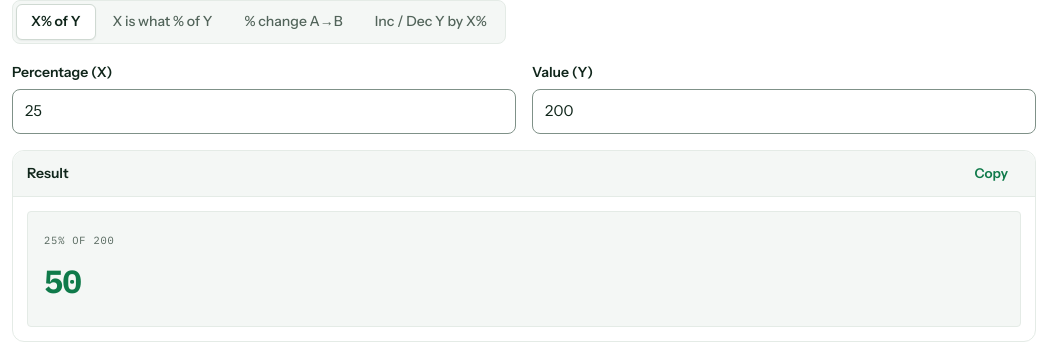
it: PercentageCalculator › mode "% change A→B": 200 → 100 = -50%
Click the tab "% change A→B": (294,22) [229, 4, 358, 40]
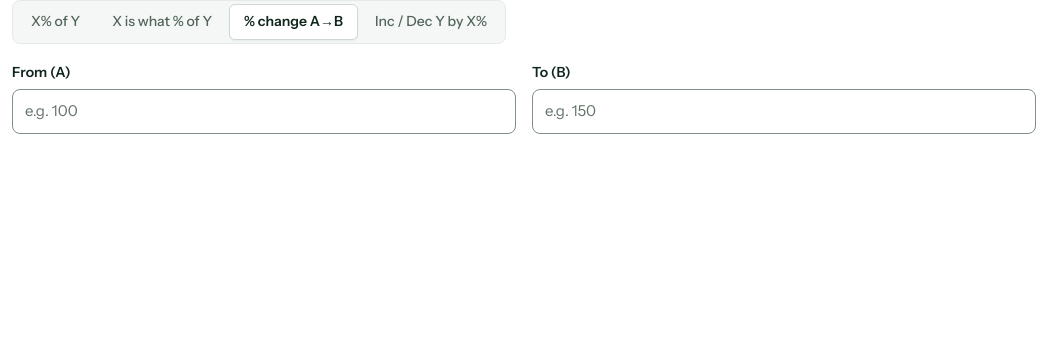
In the number field labelled "From (A)": (264,112) [12, 89, 516, 134], type "200"
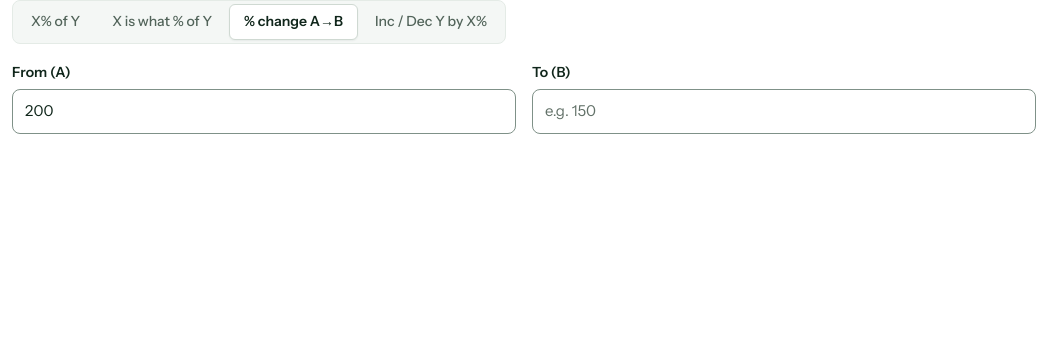
In the number field labelled "To (B)": (784,112) [532, 89, 1036, 134], type "100"
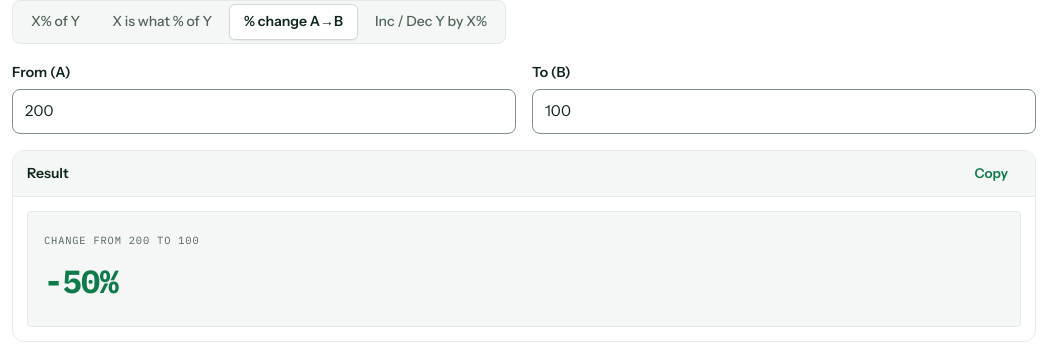
Check: the text "-50%" is shown, box [44, 260, 118, 302]
